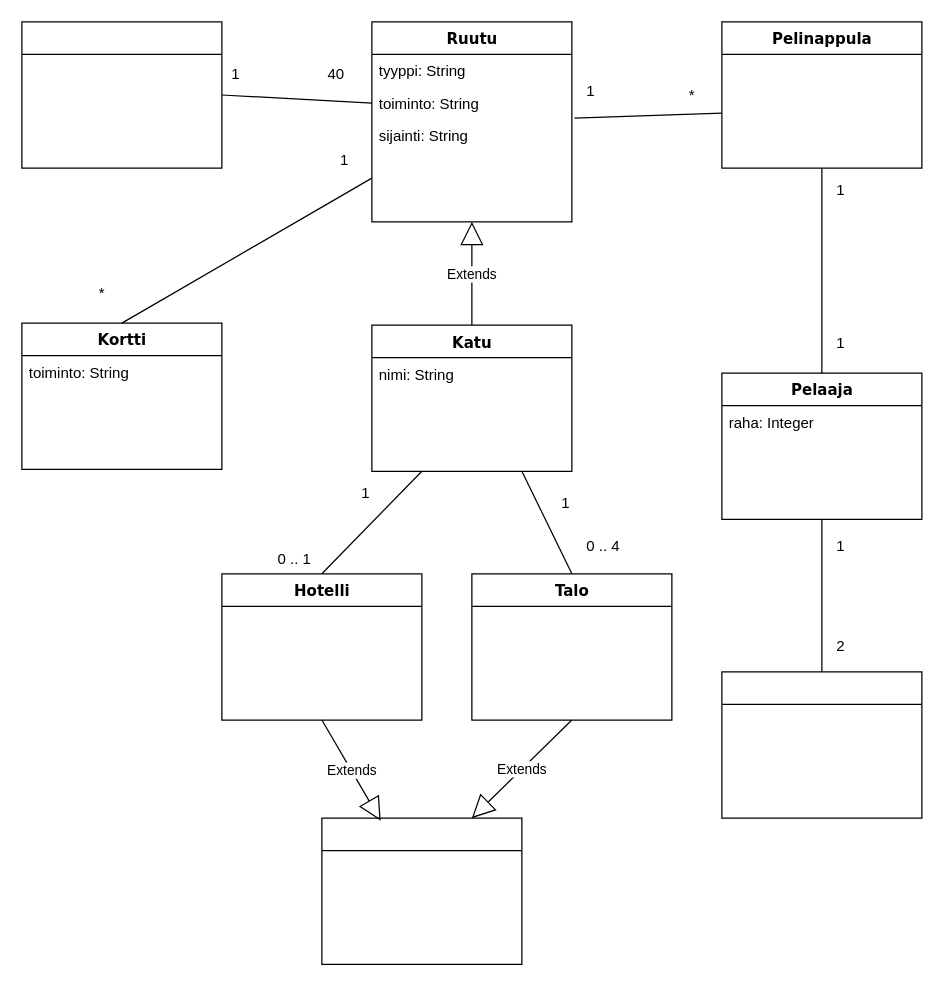
The diagram is 944 pixels wide and 986 high, and some of its shapes have lost their labels. The shapes that lost their labels are listed below. From the top down, each one's box as (x1, y1, x2, y2) in pixels, then its label:
(21, 21, 222, 168): Pelilauta
(721, 671, 922, 818): Noppa
(321, 817, 522, 964): Rakennus
